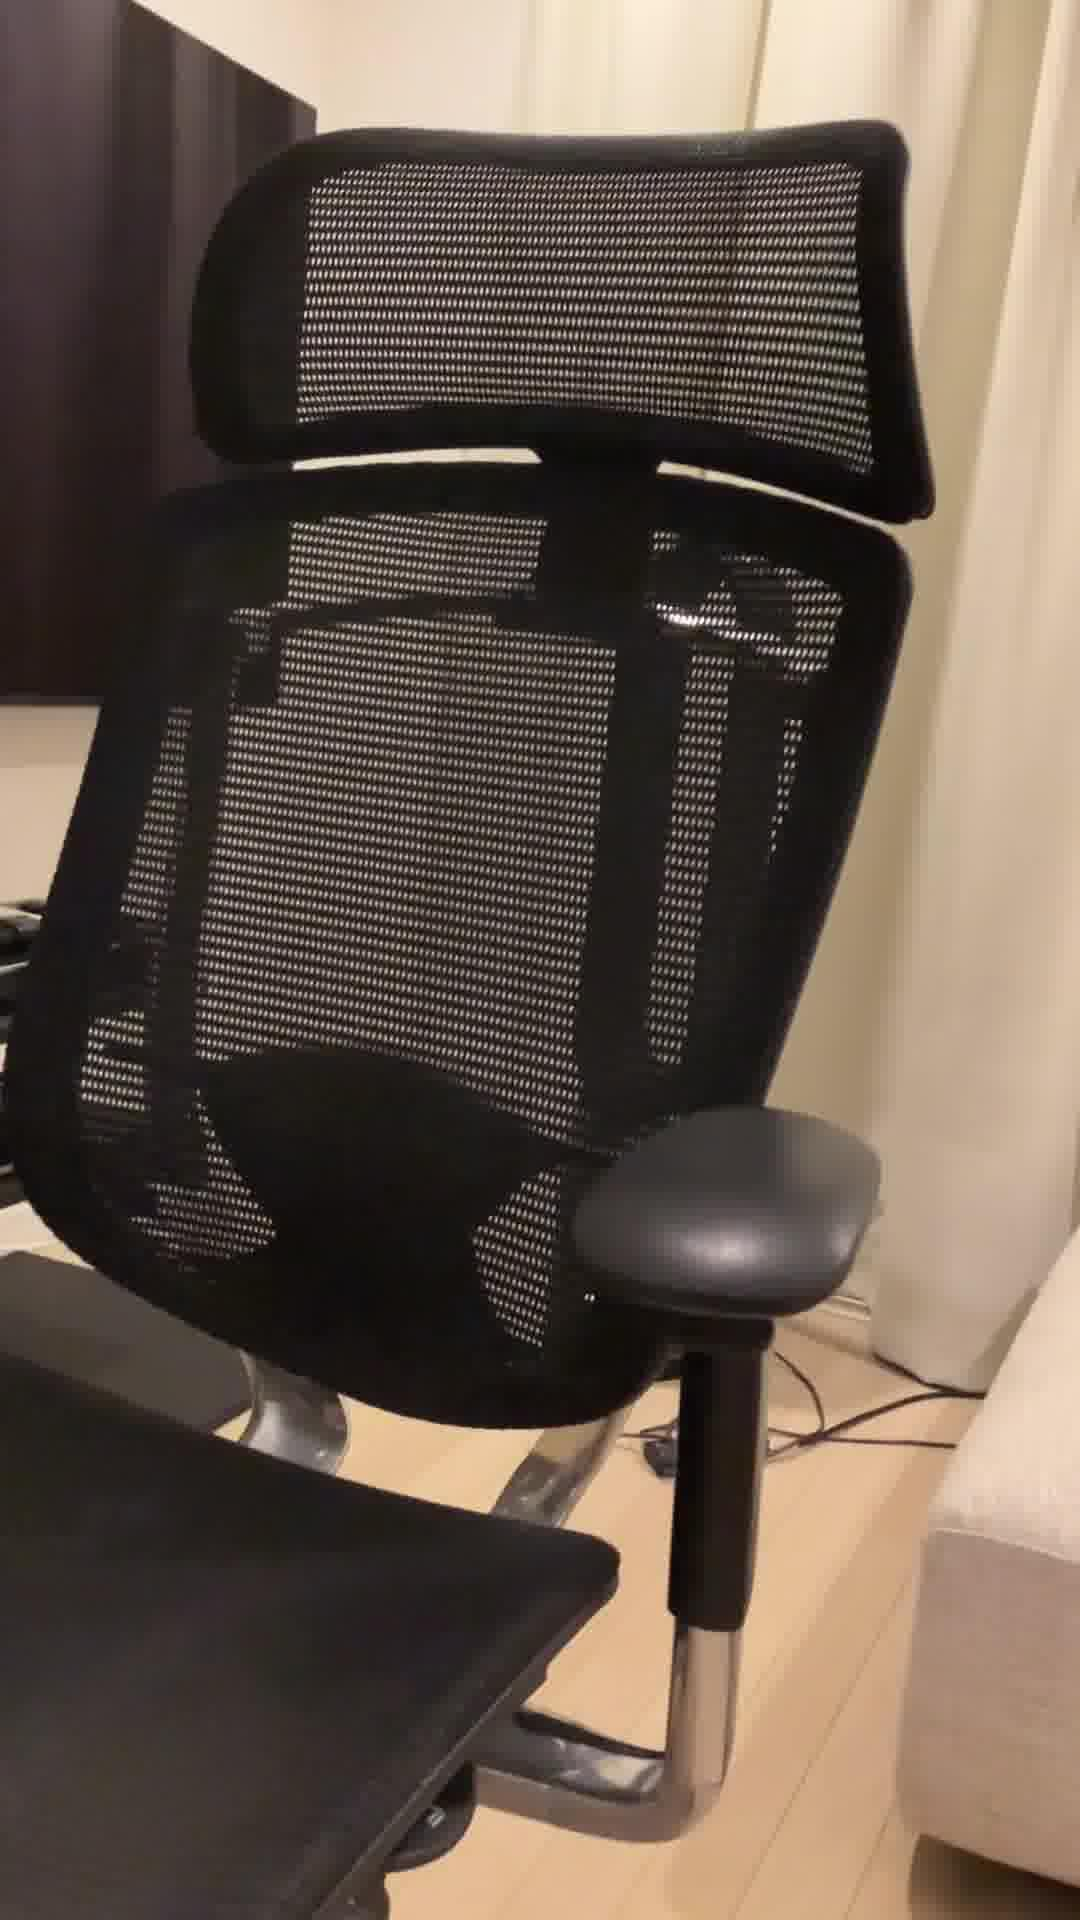okamura-contessa: (0, 117, 938, 1920)
